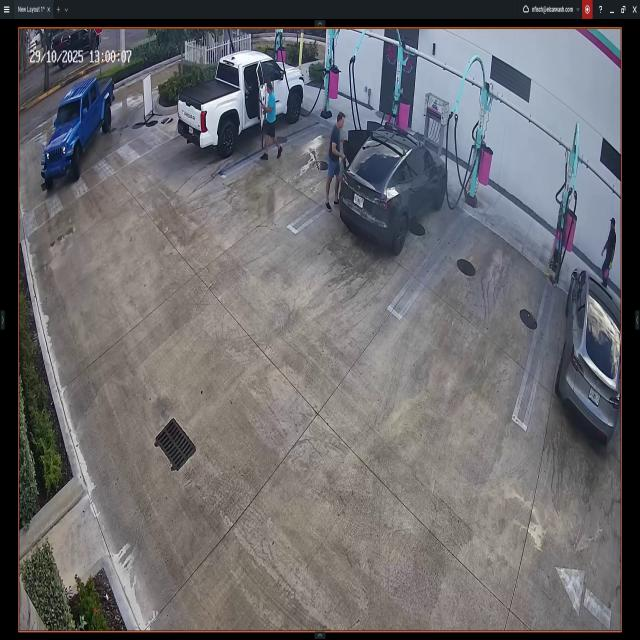Car: (338, 116, 448, 255), (174, 51, 303, 159), (555, 263, 619, 435), (45, 70, 113, 188)
